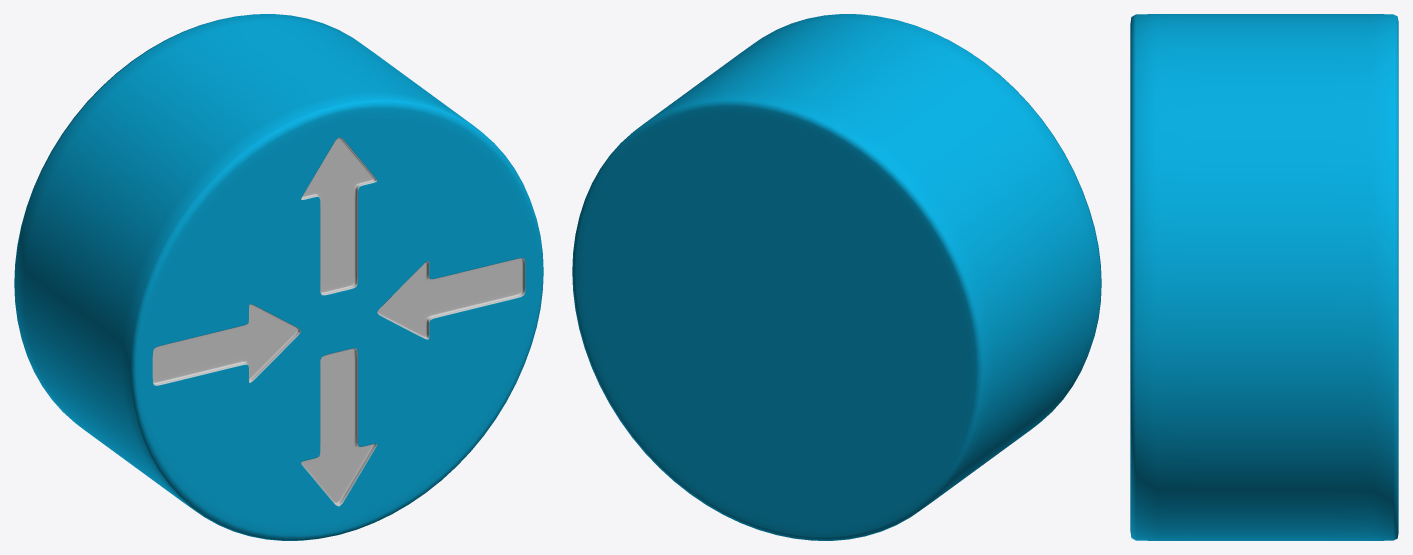
Rendered from generic_routericon1.glb.
The picture shows the model from 3 angles, left to right: view 1: azimuth 30°, elevation 25°; view 2: azimuth 150°, elevation 25°; view 3: azimuth 270°, elevation 25°; orthographic projection. The views are drawn at different scales.
Parts seen in each view (by area): view 1: RouterIcon; view 2: RouterIcon; view 3: RouterIcon.
Part boxes in pixels (x1,y1,x2,y2): RouterIcon: (14, 14, 543, 540); RouterIcon: (572, 14, 1101, 540); RouterIcon: (1130, 14, 1398, 540).
Size of the model in its own units: 0.9272 by 0.9272 by 0.472.
